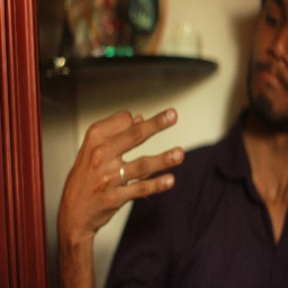K: (50, 107, 188, 217)
